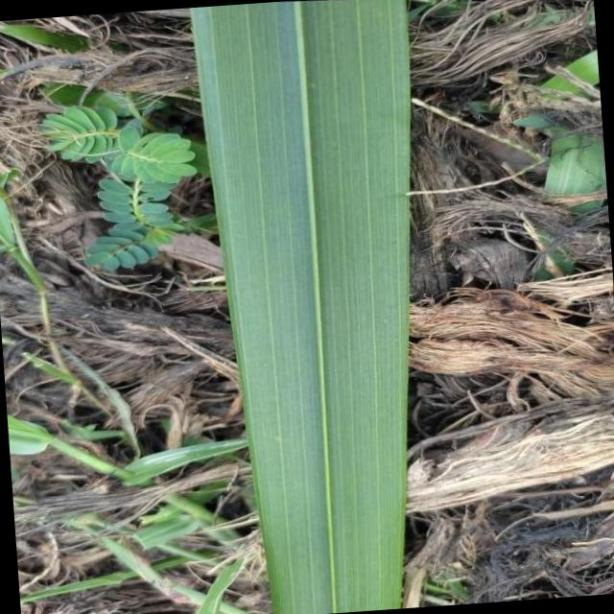Healthy: (188, 0, 409, 610)
